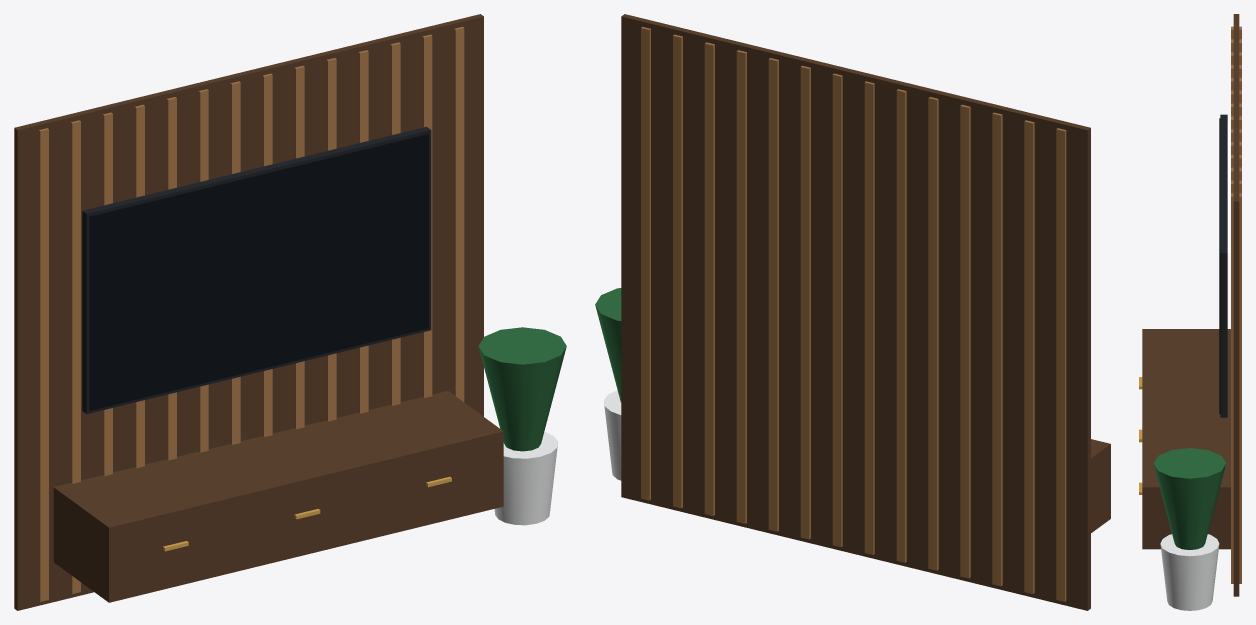
Rendered from tv_console.glb.
3 renders of one model, left to right at view 1: azimuth 30°, elevation 25°; view 2: azimuth 150°, elevation 25°; view 3: azimuth 270°, elevation 25°, orthographic. The views are drawn at different scales.
Bounding box in the file's own units: 2.16 × 1.92 × 0.453.
